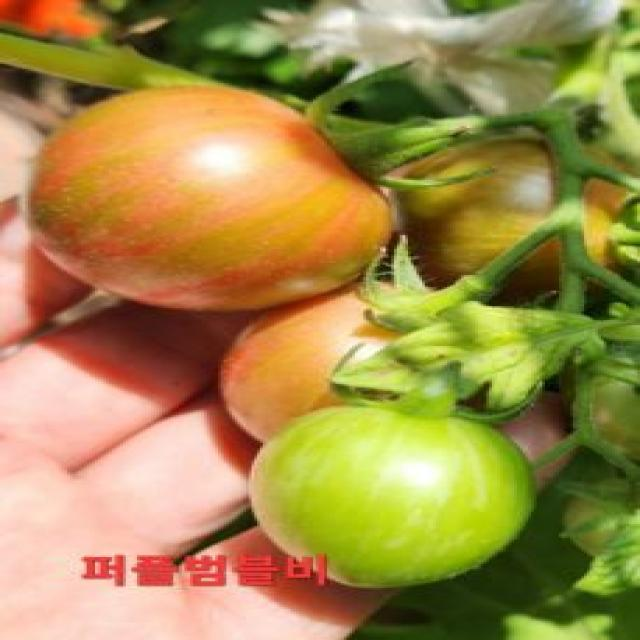level 2: (178, 392, 566, 588)
level 3: (371, 122, 640, 308)
level 4: (177, 260, 505, 456)
level 5: (22, 70, 395, 330)
